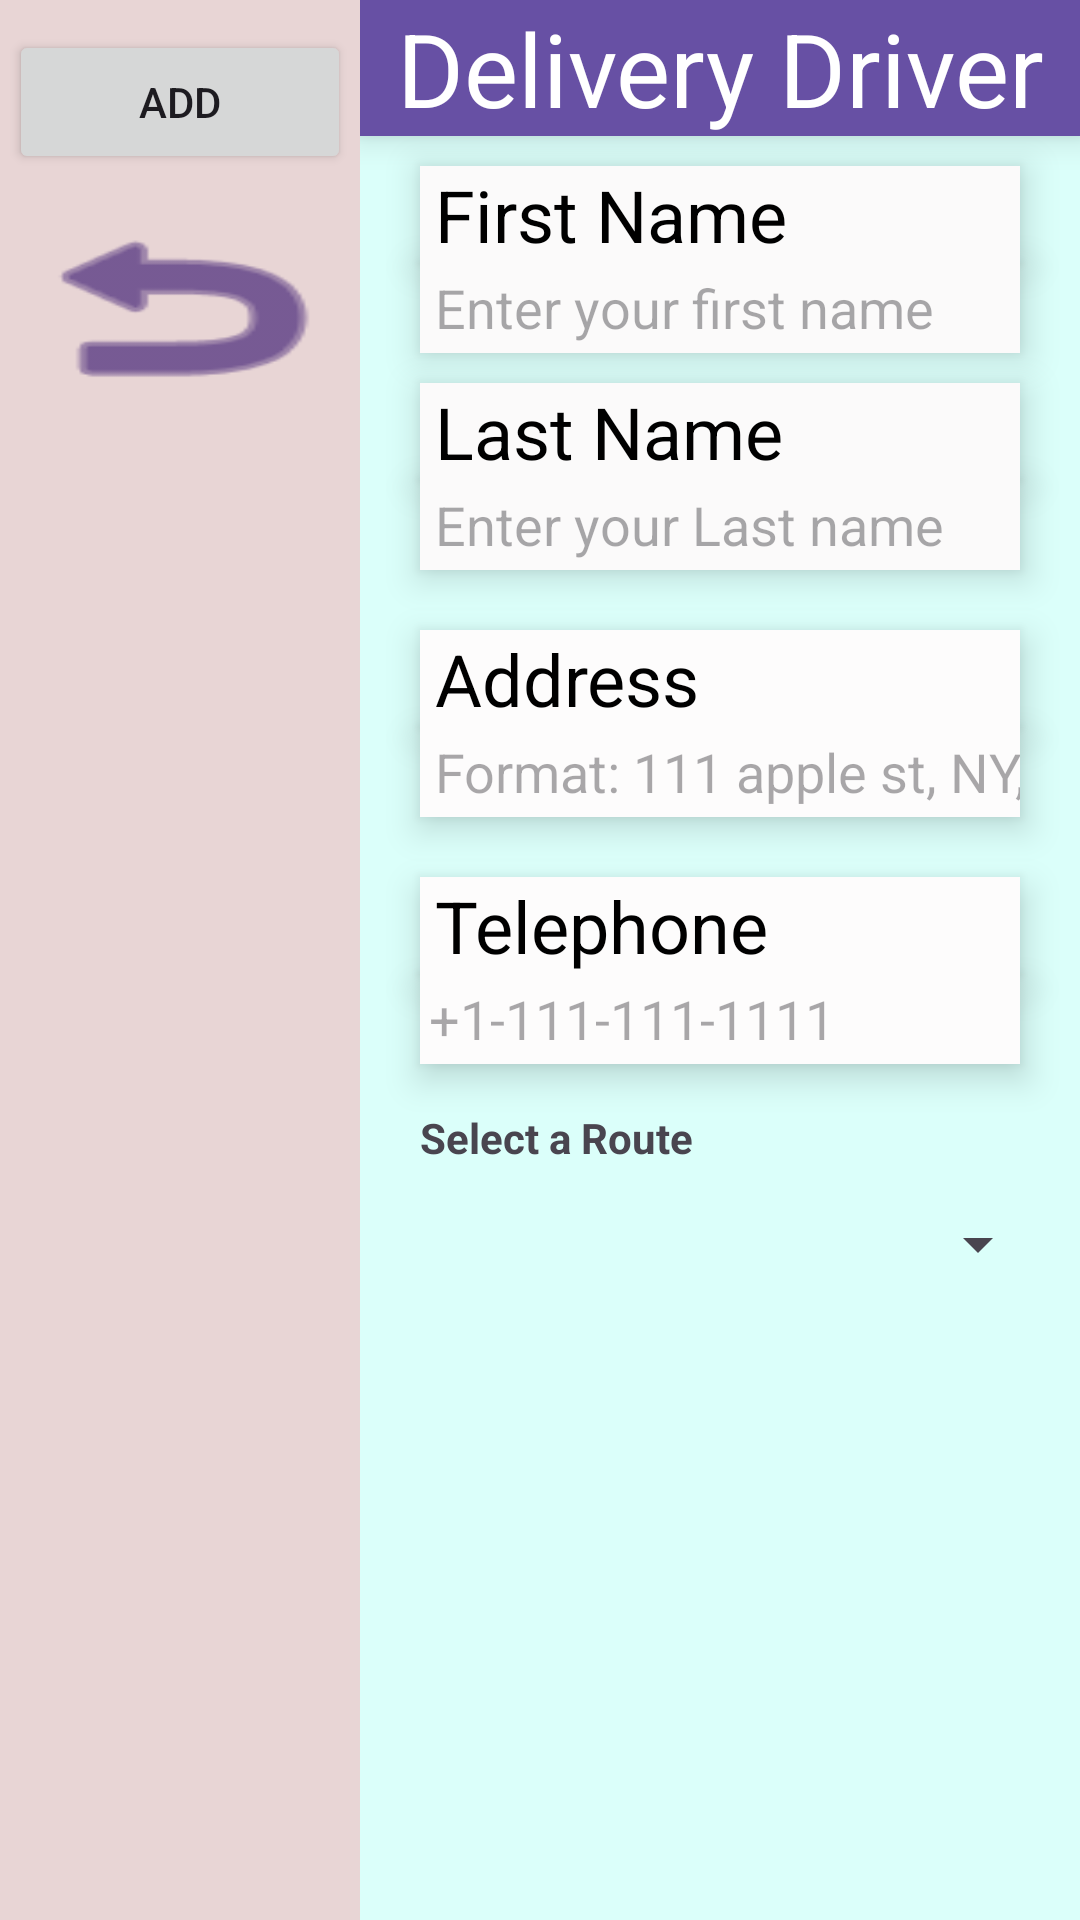

Icons on this 1080px x 1920px Android screen, each with its box as box=[x1, y1, x2, y2]:
revert: box=[61, 241, 308, 377]
